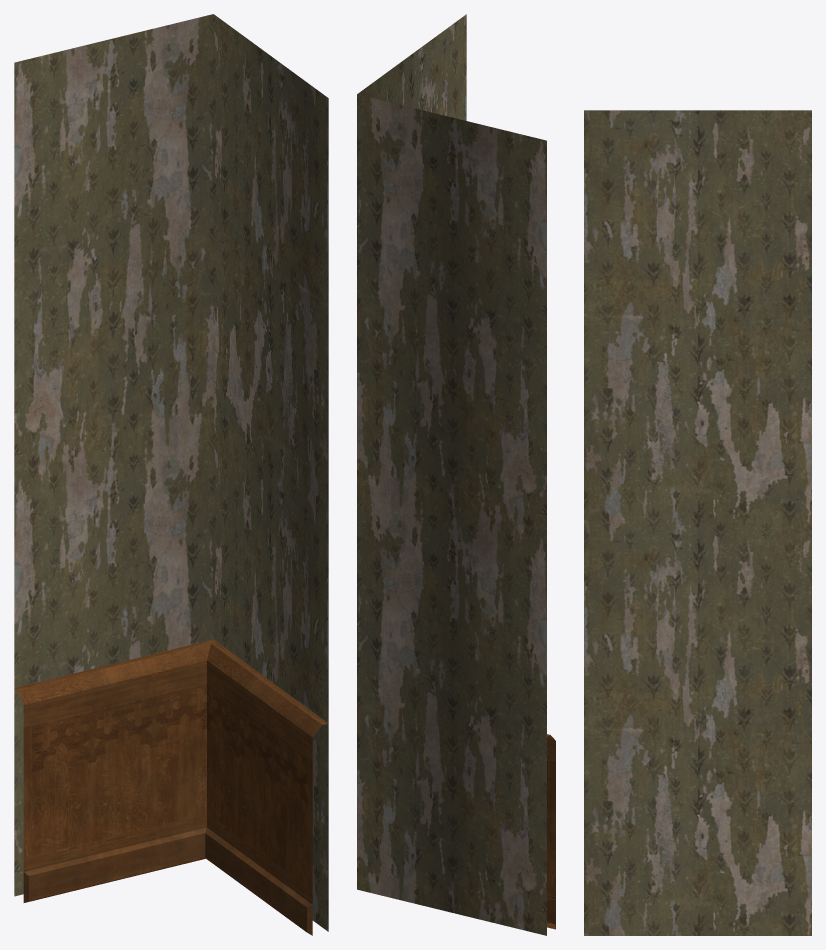
The model's file is SM_Wall_Paper_02.fbx.
3 views of the same model, side by side, from view 1: azimuth 30°, elevation 25°; view 2: azimuth 150°, elevation 25°; view 3: azimuth 270°, elevation 25° (orthographic). The views are drawn at different scales.
Visible parts, largest first — view 1: SM_Wall_Paper_02; view 2: SM_Wall_Paper_02; view 3: SM_Wall_Paper_02.
Boxes of the visible parts, box(x1,y1,x2,y2) form: SM_Wall_Paper_02: box(14, 14, 328, 935); SM_Wall_Paper_02: box(357, 14, 555, 935); SM_Wall_Paper_02: box(584, 110, 811, 935).
Bounding box in the file's own units: 100 × 400 × 100.
